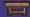workbench: (1, 0, 30, 17)
